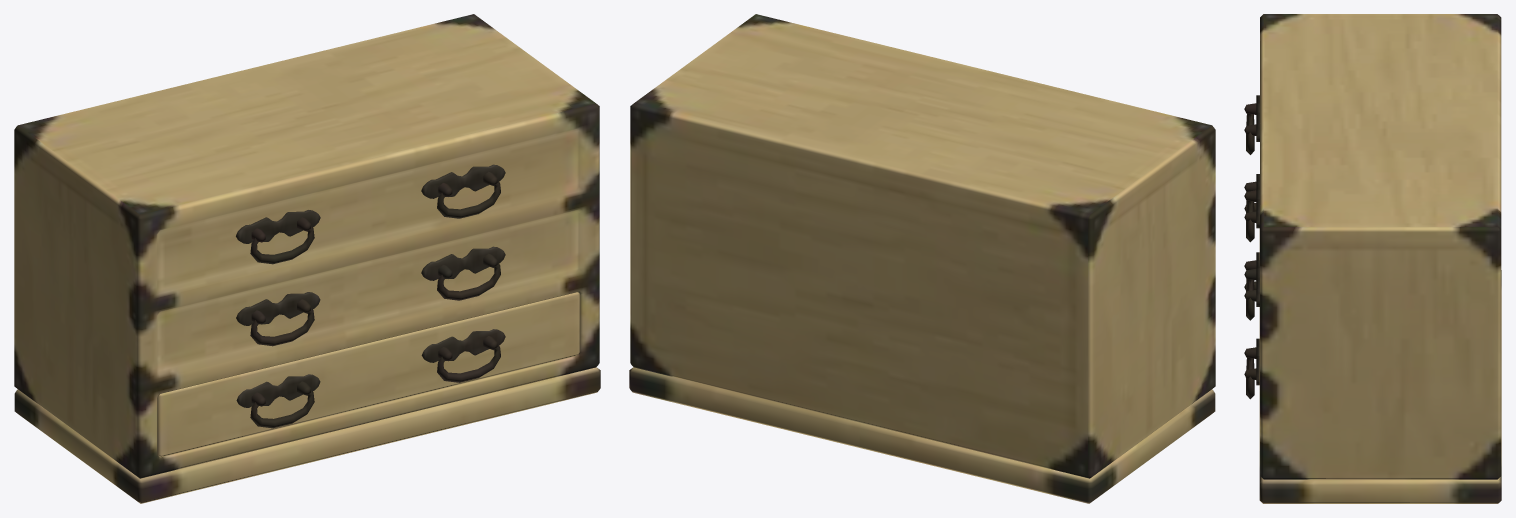
3 renders of one model, left to right at view 1: azimuth 30°, elevation 25°; view 2: azimuth 150°, elevation 25°; view 3: azimuth 270°, elevation 25°, orthographic. The views are drawn at different scales.
Bounding box in the file's own units: 14.94 × 8.9 × 7.51.
Materials: 1 (1 with a texture image).
